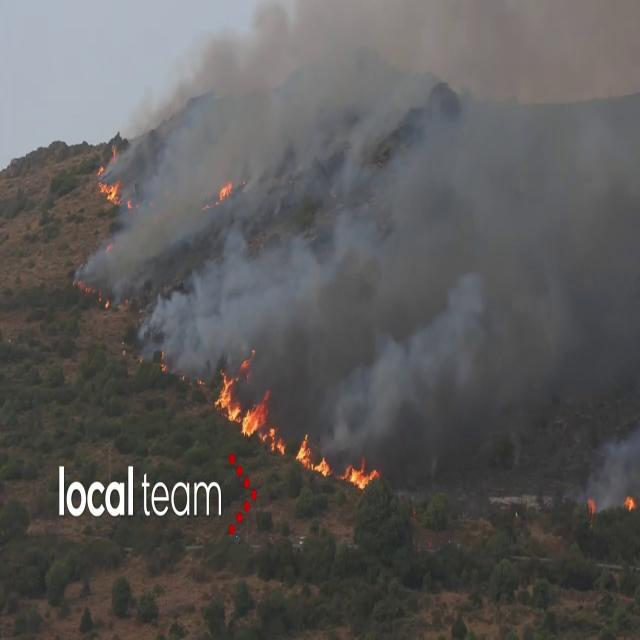Fire: (294, 436, 382, 494), (213, 364, 270, 442), (96, 156, 122, 207)
Smoke: (92, 0, 639, 437)
